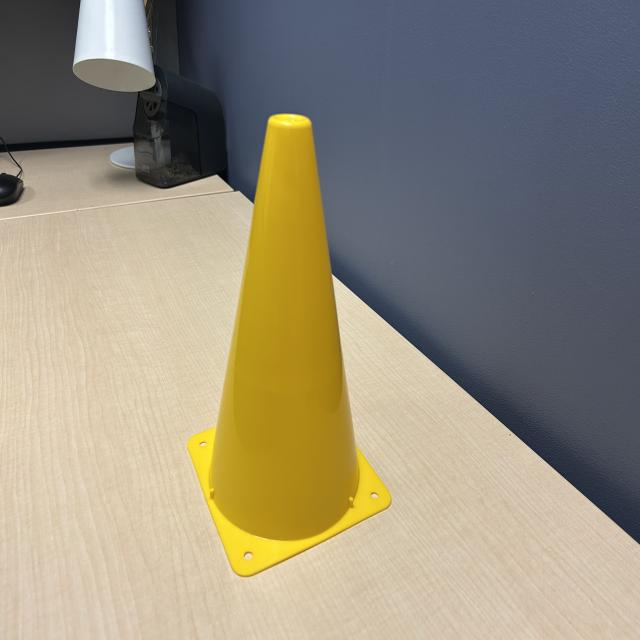yellow cone: (182, 108, 398, 581)
